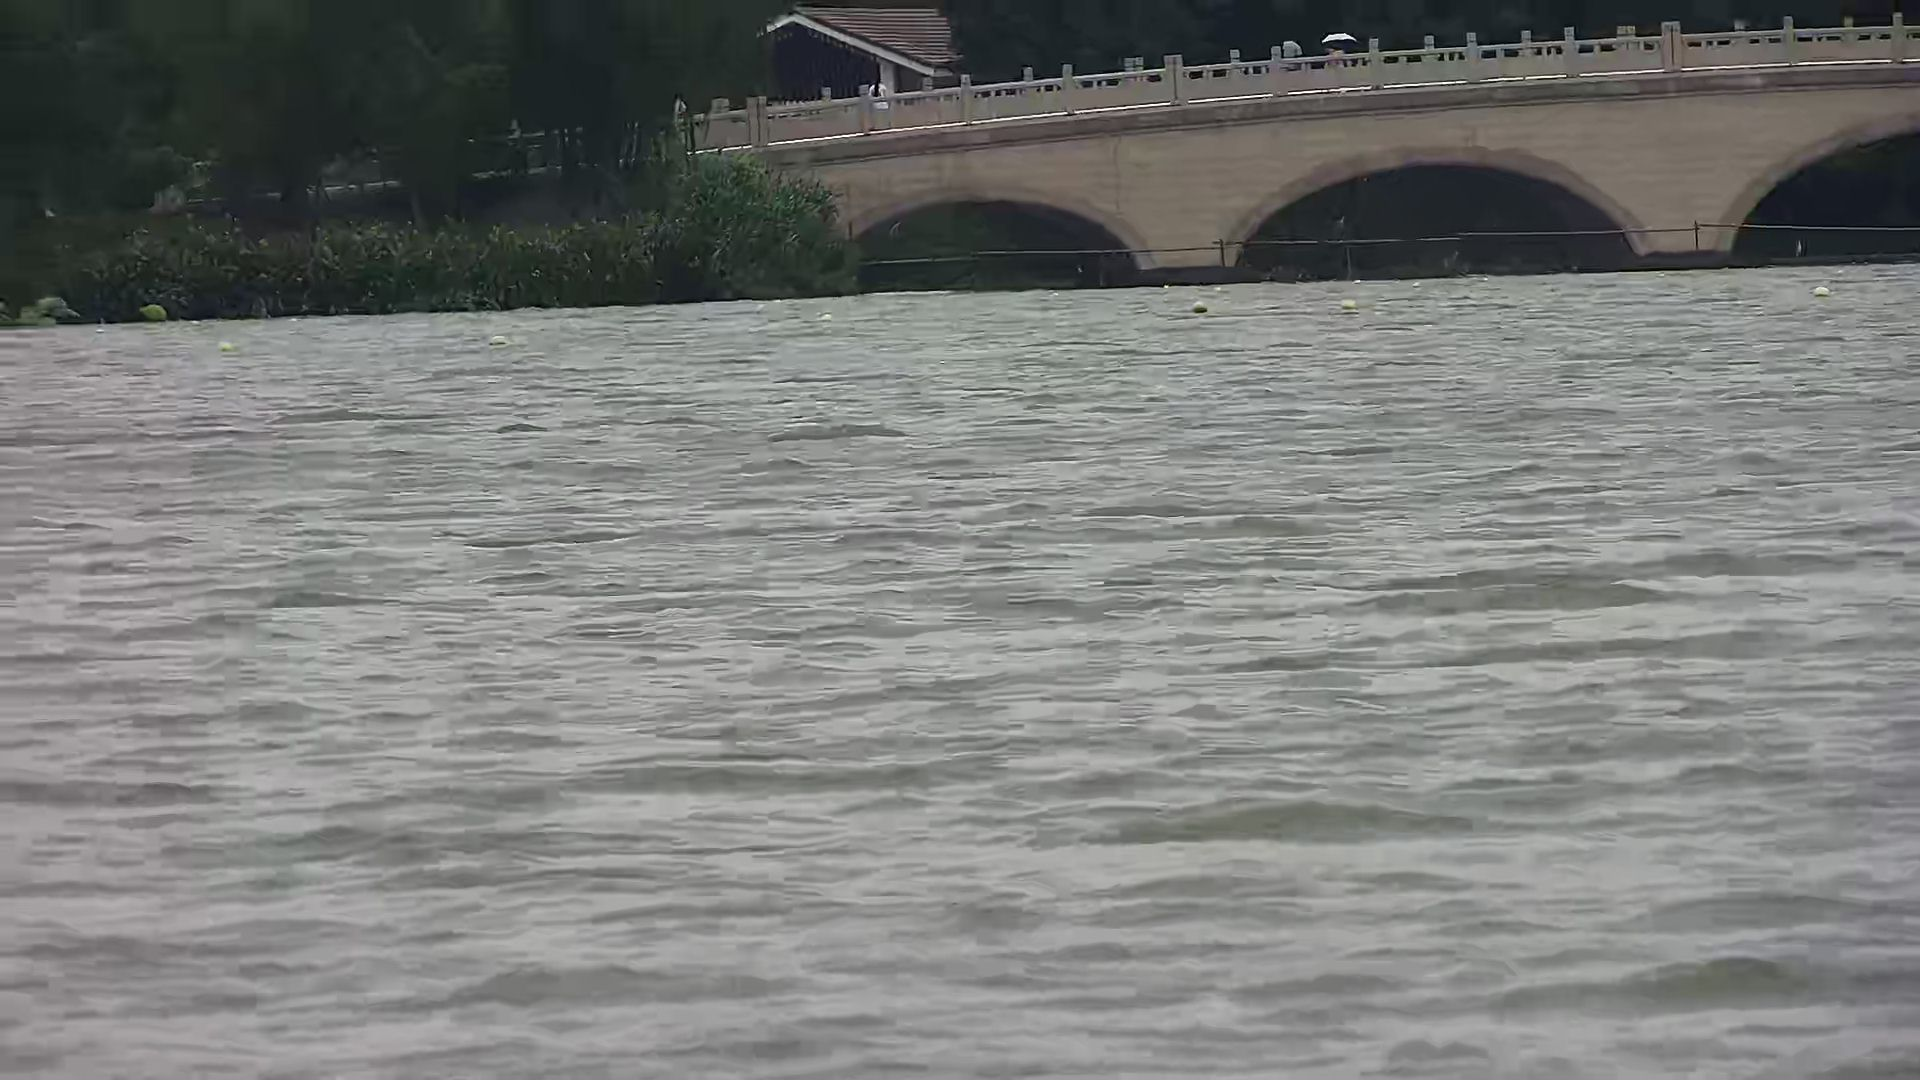bridge: (707, 9, 1908, 266)
